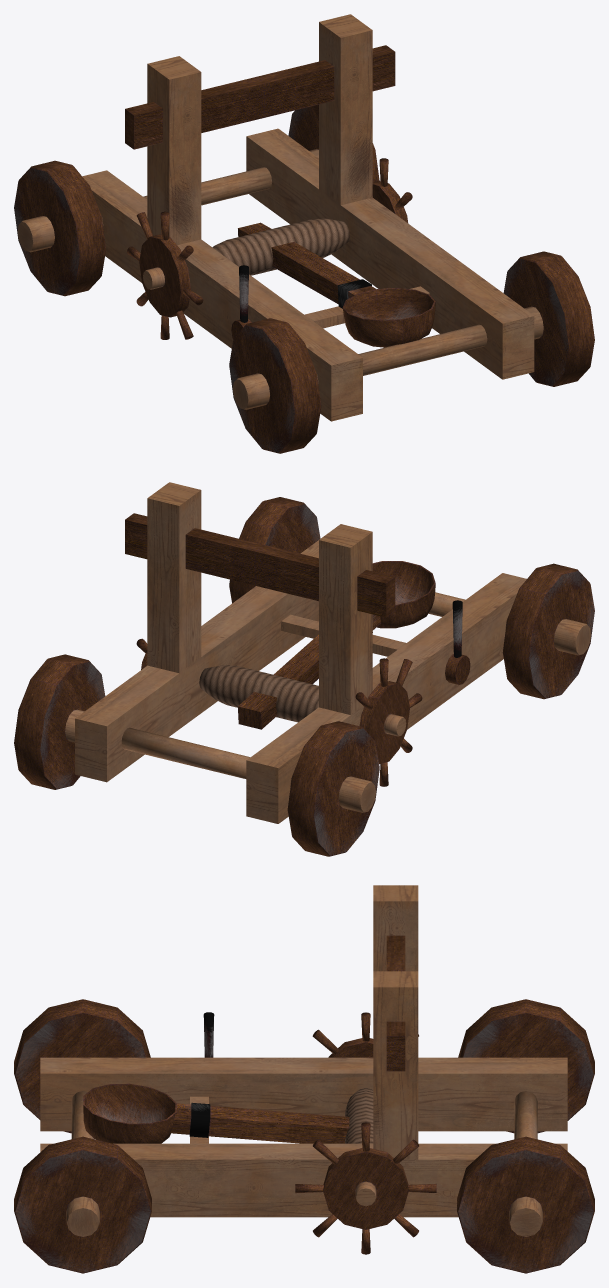
File: catapult.glb
3 views of the same model, one above another, from view 1: azimuth 30°, elevation 25°; view 2: azimuth 150°, elevation 25°; view 3: azimuth 270°, elevation 25° (orthographic). The views are drawn at different scales.
Visible parts, largest first — view 1: Estructura_Mat_madera_clara_0, Ruedas_traseras, Ruedas_delanteras, Ruedas_palos, Cesto_catapulta, Palo_catapulta; view 2: Estructura_Mat_madera_clara_0, Ruedas_delanteras, Ruedas_traseras, Ruedas_palos, Cesto_catapulta, Palo_catapulta, Palanca_Mat_madera_oscura_0, Palanca_Mat_metal_0; view 3: Estructura_Mat_madera_clara_0, Ruedas_delanteras, Ruedas_traseras, Ruedas_palos, Palo_catapulta, Cesto_catapulta.
Boxes of the visible parts, box(x1,y1,x2,y2) form: Estructura_Mat_madera_clara_0: box(17, 14, 543, 421); Ruedas_traseras: box(229, 251, 594, 453); Ruedas_delanteras: box(14, 104, 379, 296); Ruedas_palos: box(127, 158, 412, 339); Cesto_catapulta: box(342, 288, 435, 347); Palo_catapulta: box(238, 222, 376, 308); Estructura_Mat_madera_clara_0: box(65, 482, 591, 823); Ruedas_delanteras: box(14, 654, 379, 856); Ruedas_traseras: box(229, 497, 594, 699); Ruedas_palos: box(136, 638, 422, 786); Cesto_catapulta: box(372, 561, 435, 628); Palo_catapulta: box(238, 614, 380, 729); Palanca_Mat_madera_oscura_0: box(445, 654, 470, 684); Palanca_Mat_metal_0: box(452, 600, 462, 657); Estructura_Mat_madera_clara_0: box(40, 885, 567, 1236); Ruedas_delanteras: box(457, 999, 594, 1273); Ruedas_traseras: box(14, 999, 151, 1273); Ruedas_palos: box(295, 1012, 436, 1254); Palo_catapulta: box(170, 1102, 349, 1143); Cesto_catapulta: box(83, 1083, 176, 1143).
Bounding box in the file's own units: 80.87 × 57.51 × 115.
Materials: 3 (3 with a texture image).
